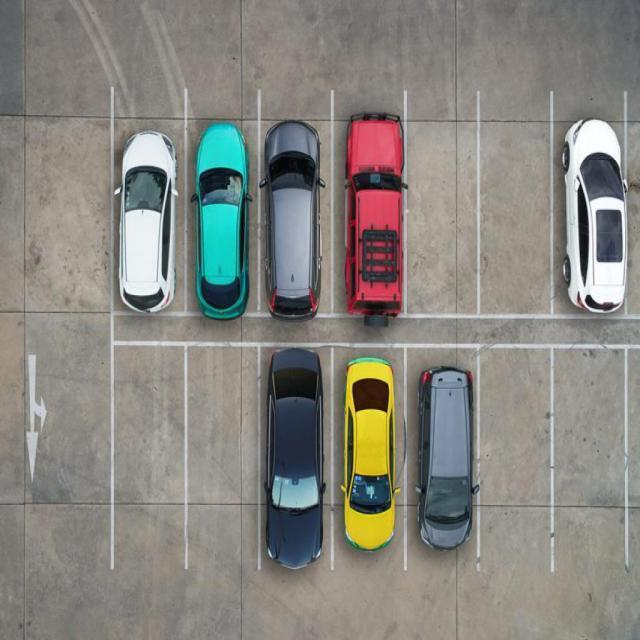car: (256, 345, 336, 559), (107, 88, 185, 306), (185, 91, 262, 302), (408, 347, 480, 572), (555, 91, 626, 308), (332, 99, 405, 310), (337, 348, 408, 562), (266, 89, 334, 309)
free: (404, 98, 482, 314), (478, 348, 554, 566), (482, 94, 556, 312), (552, 349, 626, 566), (188, 346, 258, 572), (114, 352, 186, 566)
